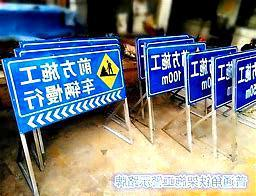sign: (7, 48, 121, 132), (148, 46, 183, 97), (187, 53, 210, 109), (234, 58, 256, 112), (214, 59, 231, 112)
